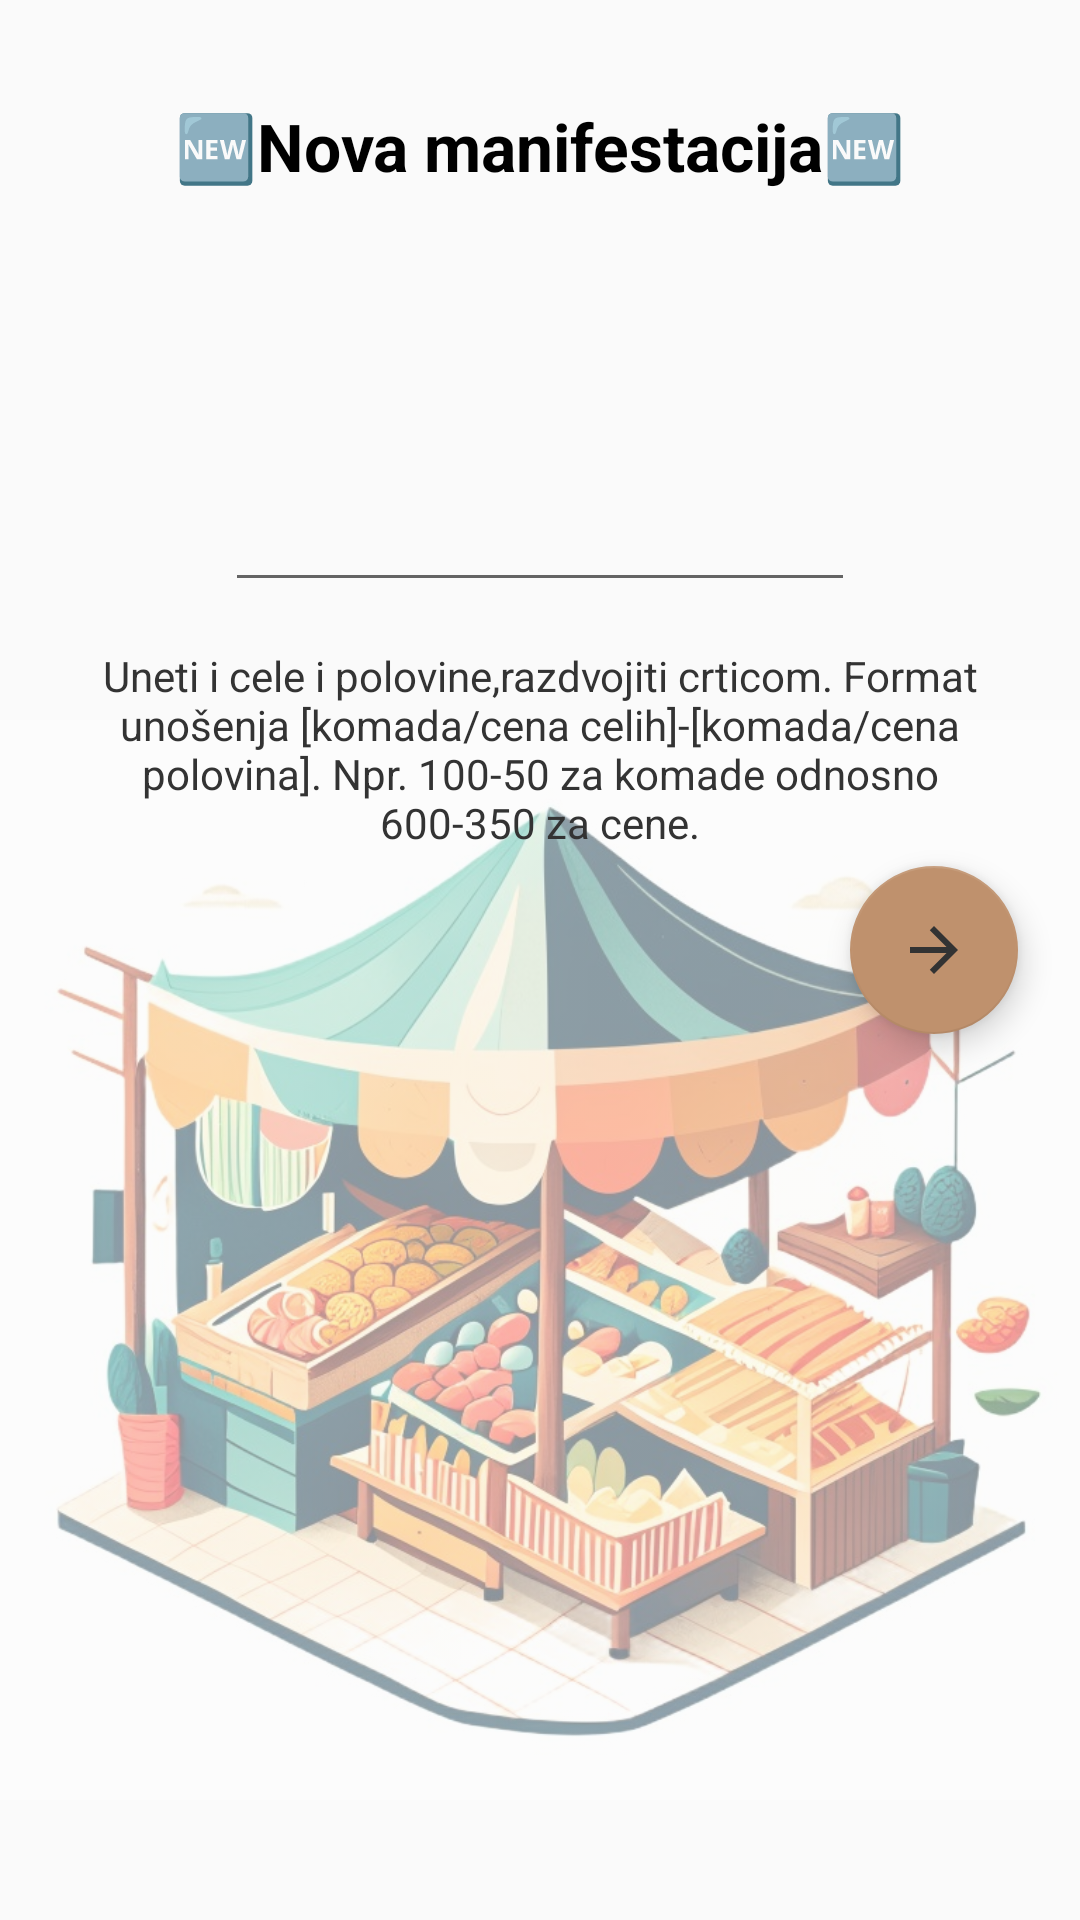

Icon bounding boxes for this 1080 x 1920 phone screenshot, format (x1, y1, x2, y2):
arrow forward: (850, 866, 1018, 1034)
